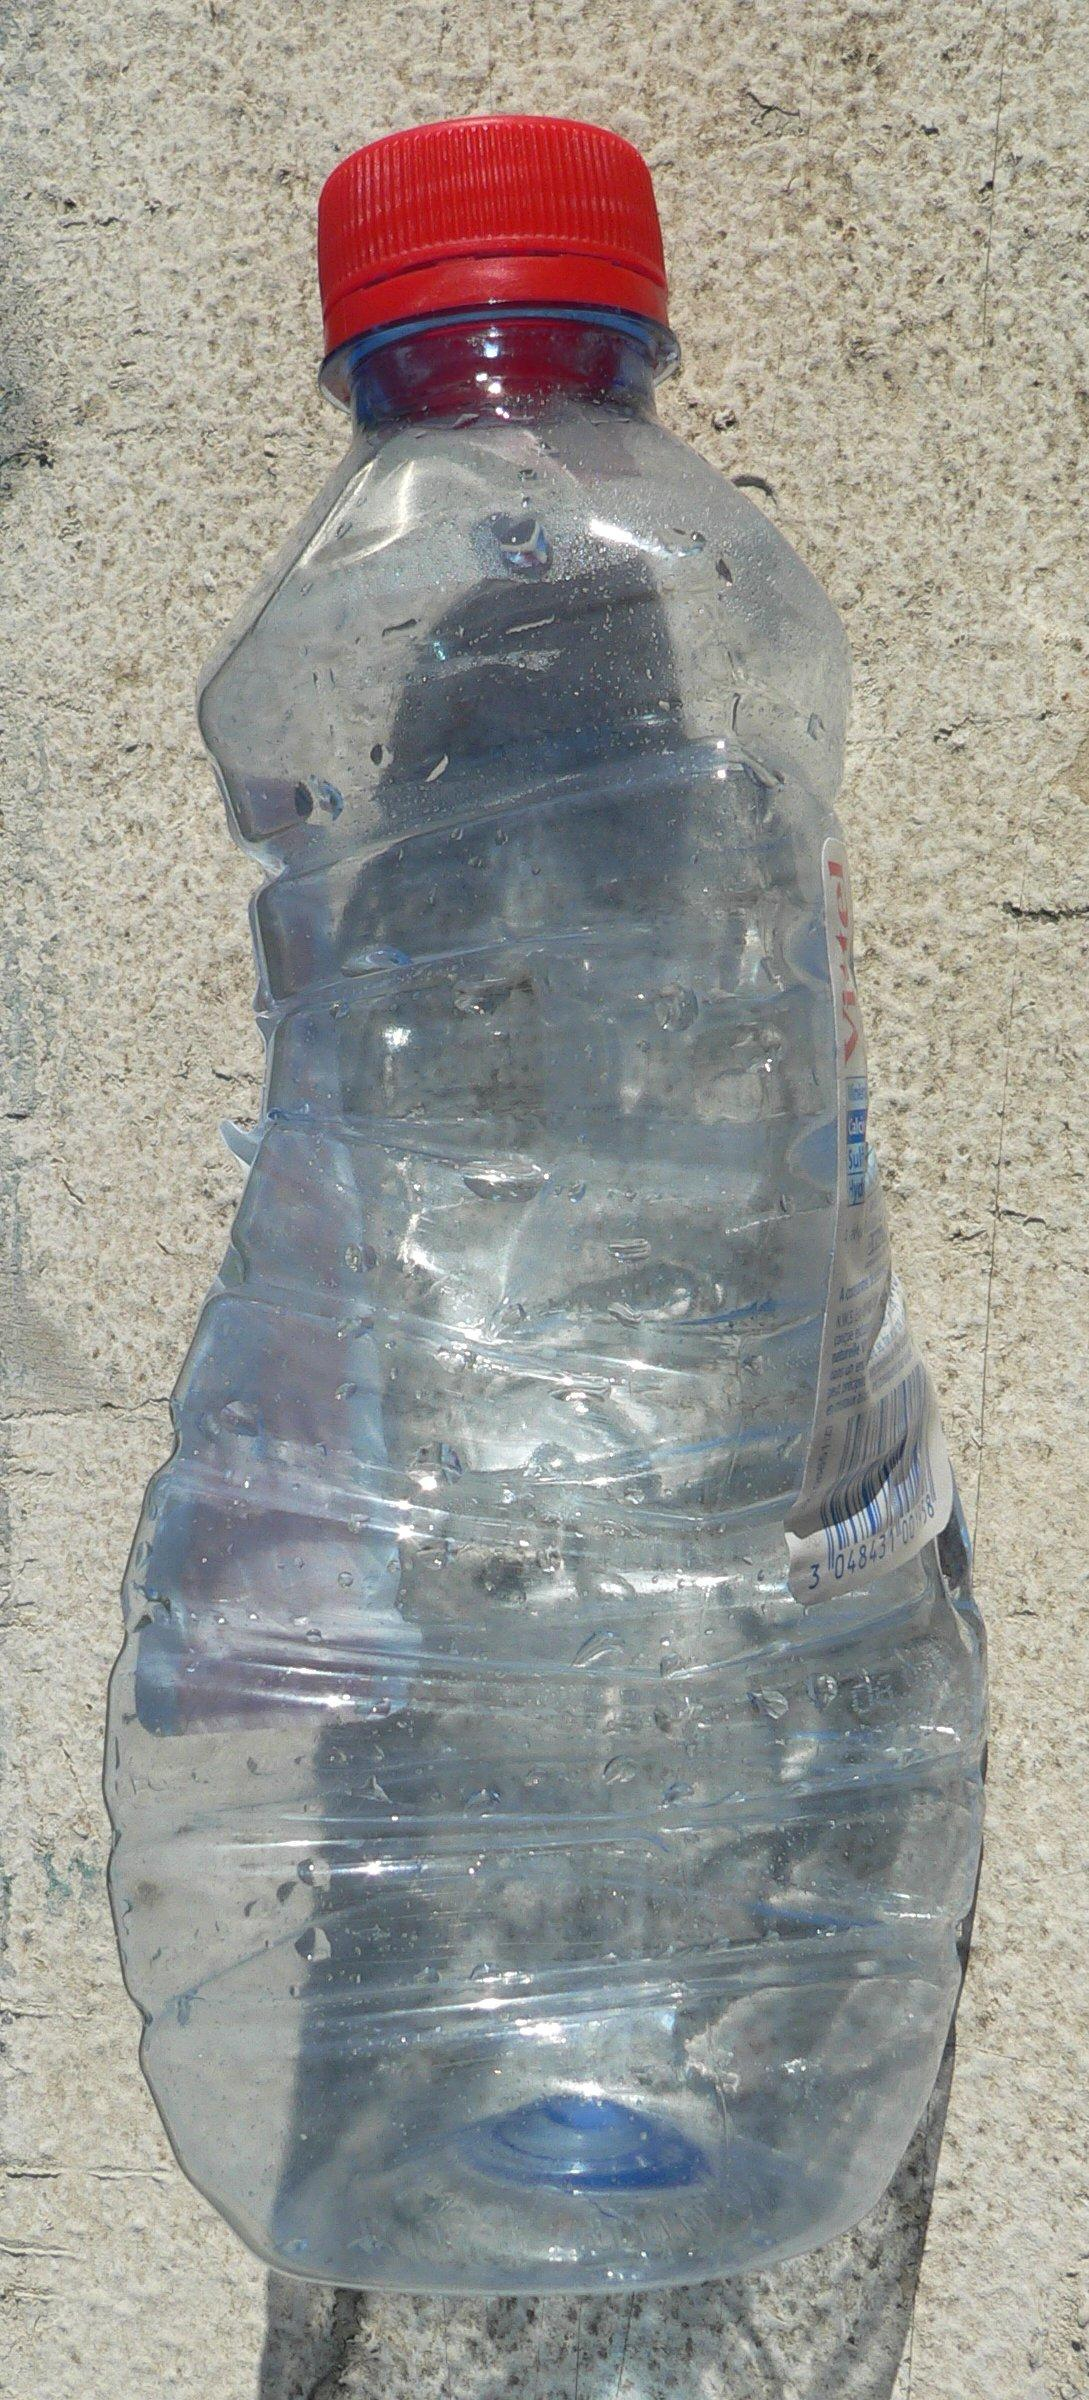bottle: (106, 106, 1000, 2345)
